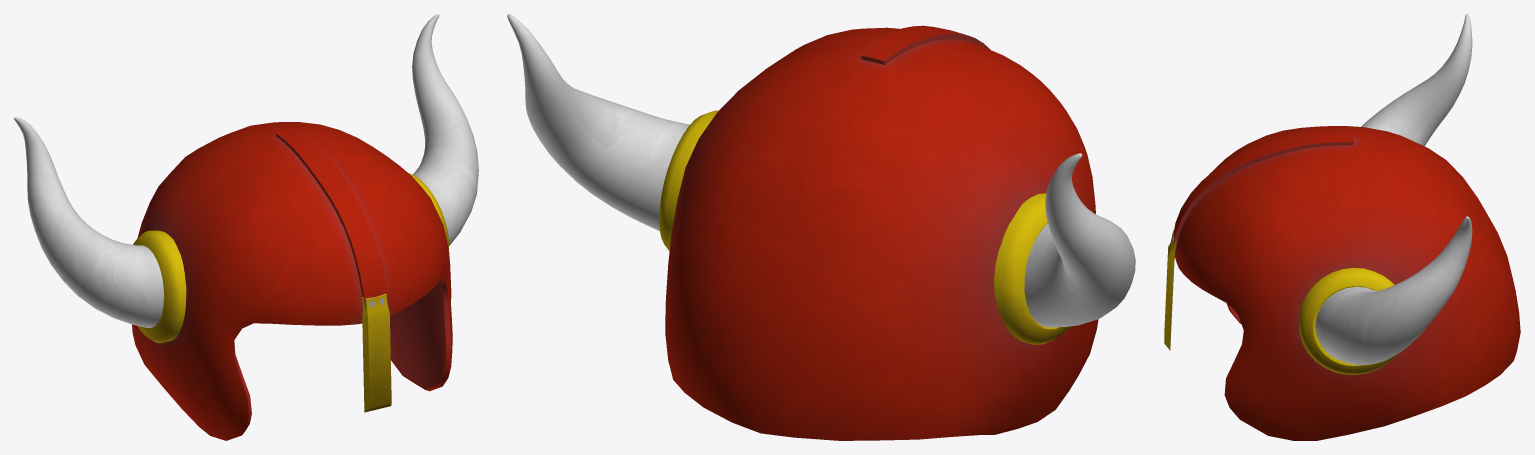
File: d4r6wSGyKzDg+966.glb
The picture shows the model from 3 angles, left to right: view 1: azimuth 30°, elevation 25°; view 2: azimuth 150°, elevation 25°; view 3: azimuth 270°, elevation 25°; orthographic projection. The views are drawn at different scales.
Visible parts, largest first — view 1: viktor_helmet; view 2: viktor_helmet; view 3: viktor_helmet.
Boxes of the visible parts, box(x1,y1,x2,y2) form: viktor_helmet: box(14, 14, 478, 440); viktor_helmet: box(507, 14, 1135, 440); viktor_helmet: box(1164, 14, 1520, 440).
Size of the model in its own units: 29.48 by 18.44 by 21.61.
1 material, 1 textured.
